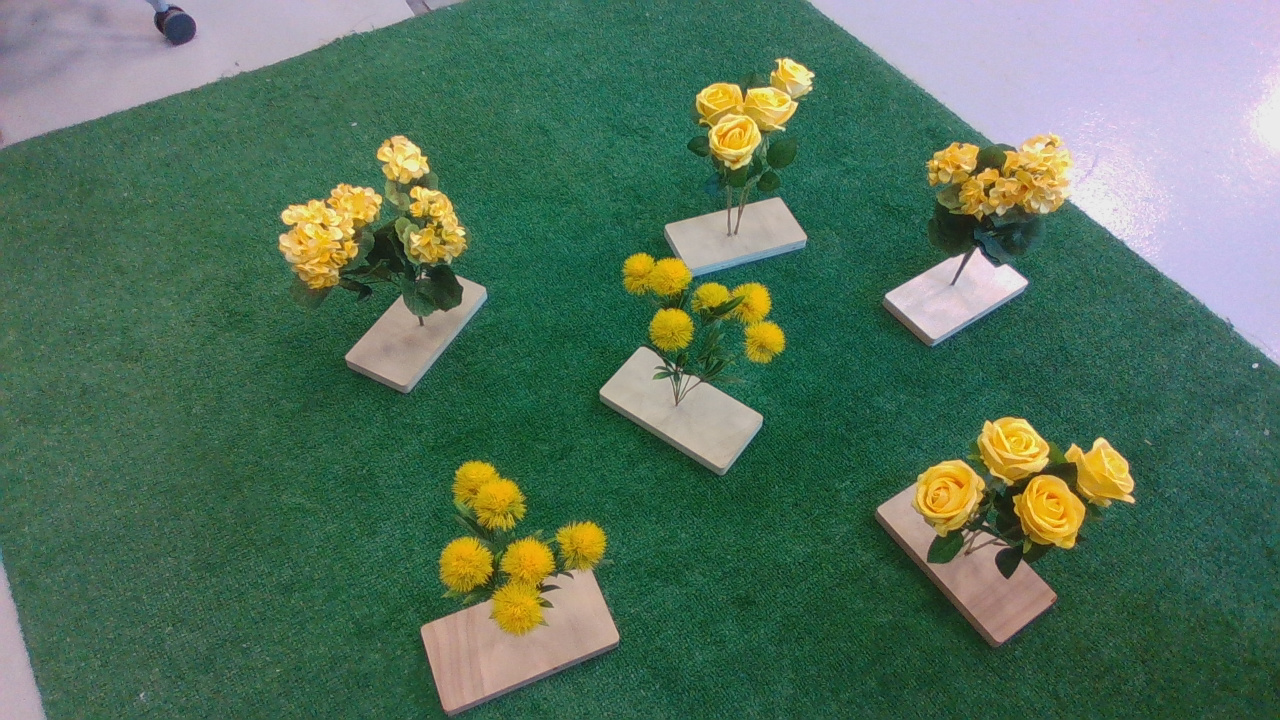dandelion: (428, 455, 627, 642), (619, 248, 800, 401)
geranium: (271, 133, 497, 325), (924, 129, 1088, 278)
rose: (910, 409, 1169, 588), (685, 60, 837, 206)
